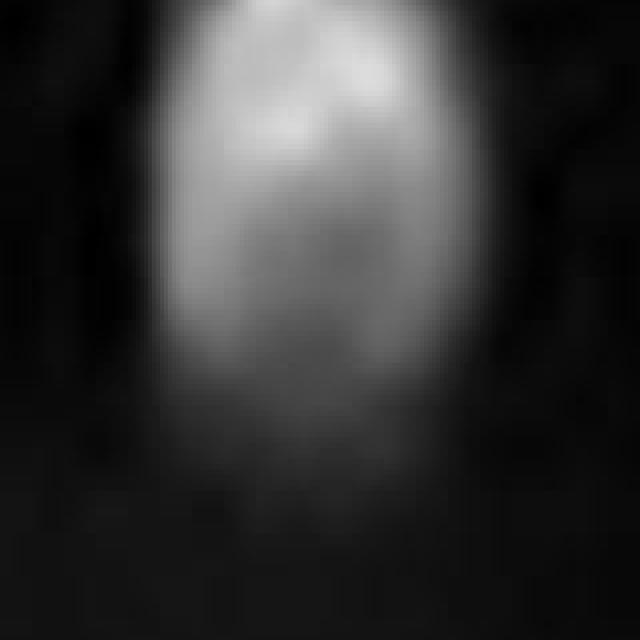person: (145, 1, 509, 588)
